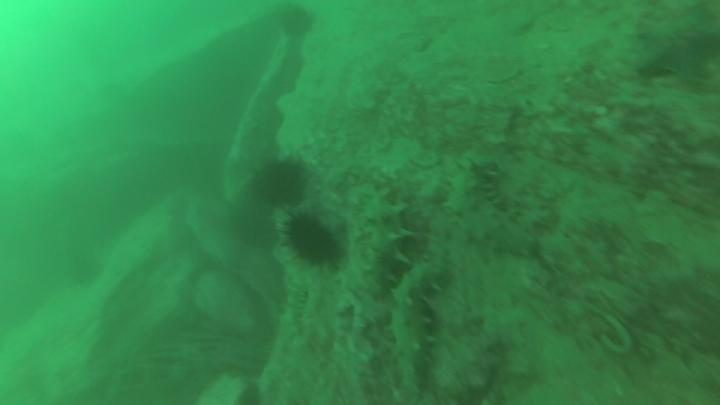echinus: (285, 216, 341, 265), (258, 166, 308, 210), (281, 7, 316, 39)
scallop: (397, 263, 454, 396), (448, 173, 535, 258), (353, 186, 410, 289)
